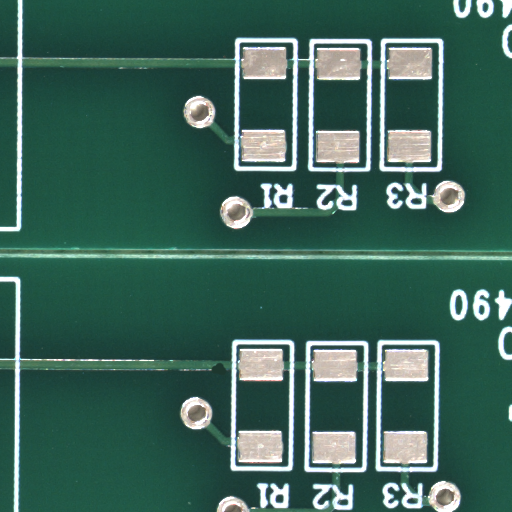Mouse_bite: (219, 368, 234, 380)
